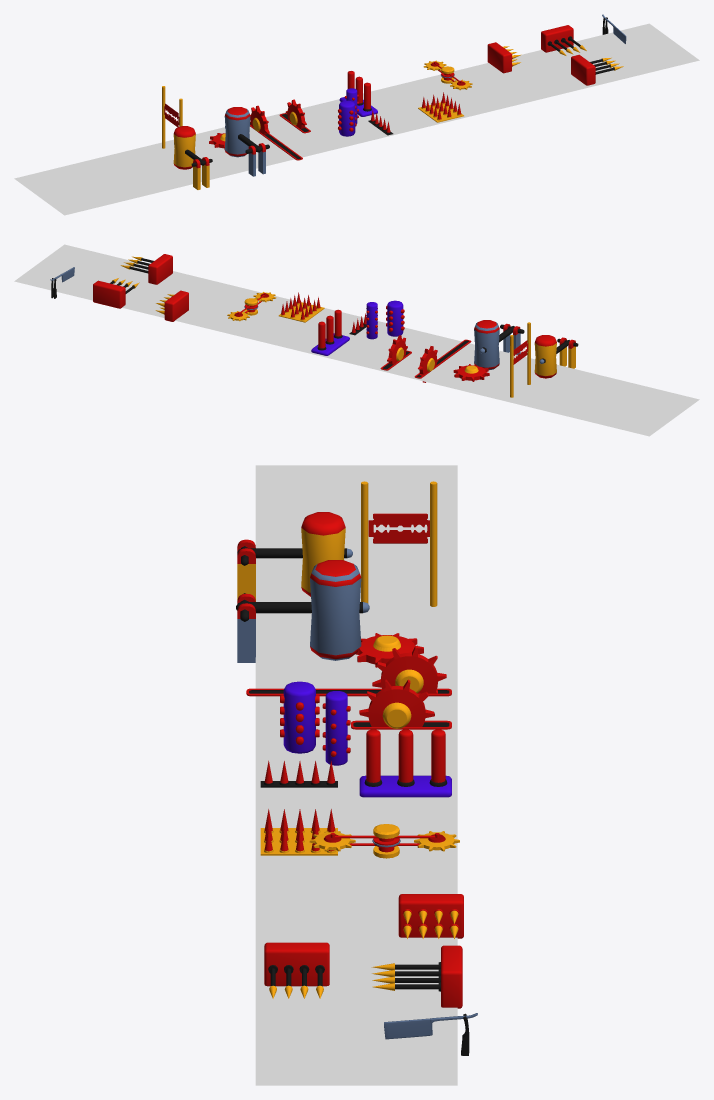
The model's file is Dynamic_Hurdles.FBX.
The picture shows the model from 3 angles, top to bottom: view 1: azimuth 30°, elevation 25°; view 2: azimuth 150°, elevation 25°; view 3: azimuth 270°, elevation 25°; orthographic projection. The views are drawn at different scales.
Parts seen in each view (by area): view 1: Box127, ChamferCyl010, ChamferCyl013, ChamferBox004, rotater_cyl, ChamferBox003, ChamferBox005, saw hurdle rotate001, rotater_cyl004, Cone020, Box129, Box126 (+3 smaller); view 2: Box127, ChamferCyl010, ChamferCyl013, ChamferBox004, rotater_cyl004, rotater_cyl, ChamferBox003, ChamferBox005, saw hurdle rotate001, Cone020, rotater blade, rotater_cyl1 (+6 smaller); view 3: Box127, ChamferCyl010, ChamferCyl013, ChamferBox005, rotater_cyl, saw hurdle rotate001, ChamferBox003, rotater_cyl004, Cylinder043, Cylinder044, ChamferBox006, rotater_cyl1 (+11 smaller).
Part boxes in pixels (<box>): Box127: <box>14,23,699,215</box>; ChamferCyl010: <box>224,107,269,157</box>; ChamferCyl013: <box>173,126,212,169</box>; ChamferBox004: <box>541,25,573,52</box>; rotater_cyl: <box>338,100,356,136</box>; ChamferBox003: <box>487,42,512,73</box>; ChamferBox005: <box>571,54,595,85</box>; saw hurdle rotate001: <box>423,60,472,90</box>; rotater_cyl004: <box>347,71,370,109</box>; Cone020: <box>422,92,461,119</box>; Box129: <box>193,157,209,189</box>; Box126: <box>248,143,265,176</box>; Box127: <box>14,244,699,436</box>; ChamferCyl010: <box>474,320,524,370</box>; ChamferCyl013: <box>534,335,578,378</box>; ChamferBox004: <box>93,280,125,308</box>; rotater_cyl004: <box>318,309,341,348</box>; rotater_cyl: <box>386,300,404,336</box>; ChamferBox003: <box>164,290,188,321</box>; ChamferBox005: <box>148,254,172,284</box>; saw hurdle rotate001: <box>227,292,276,321</box>; Cone020: <box>281,292,320,319</box>; rotater blade: <box>453,364,489,381</box>; rotater_cyl1: <box>366,302,377,339</box>; Box127: <box>255,465,457,1085</box>; ChamferCyl010: <box>236,560,369,660</box>; ChamferCyl013: <box>237,512,352,596</box>; ChamferBox005: <box>264,942,329,986</box>; rotater_cyl: <box>280,681,319,753</box>; saw hurdle rotate001: <box>309,824,459,858</box>; ChamferBox003: <box>398,894,463,938</box>; rotater_cyl004: <box>366,729,445,782</box>; Cylinder043: <box>359,679,434,728</box>; Cylinder044: <box>372,645,446,693</box>; ChamferBox006: <box>359,775,451,797</box>; rotater_cyl1: <box>322,691,350,765</box>.
Size of the model in its own units: 1075 by 116 by 177.
